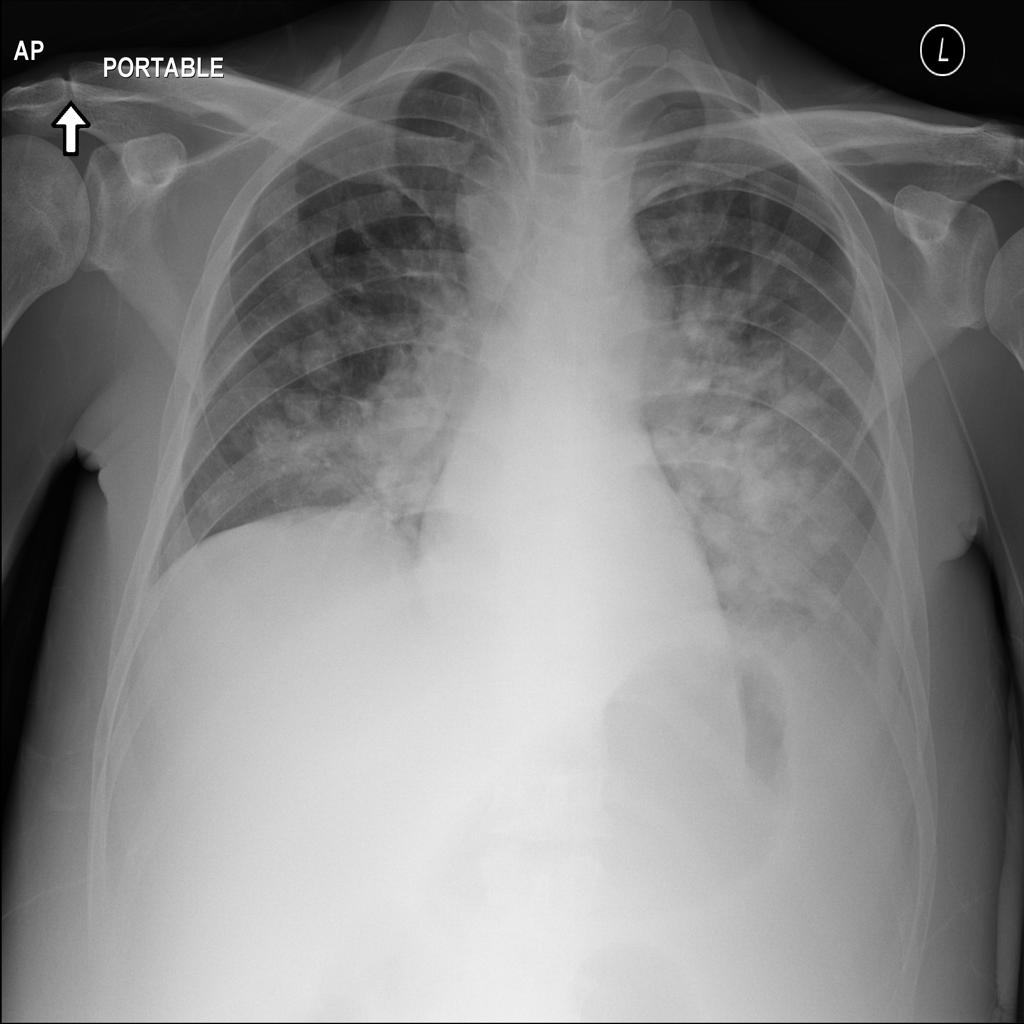nodule: (284, 323, 356, 394), (238, 404, 313, 470), (795, 564, 860, 640), (275, 372, 332, 422), (286, 270, 340, 320)
